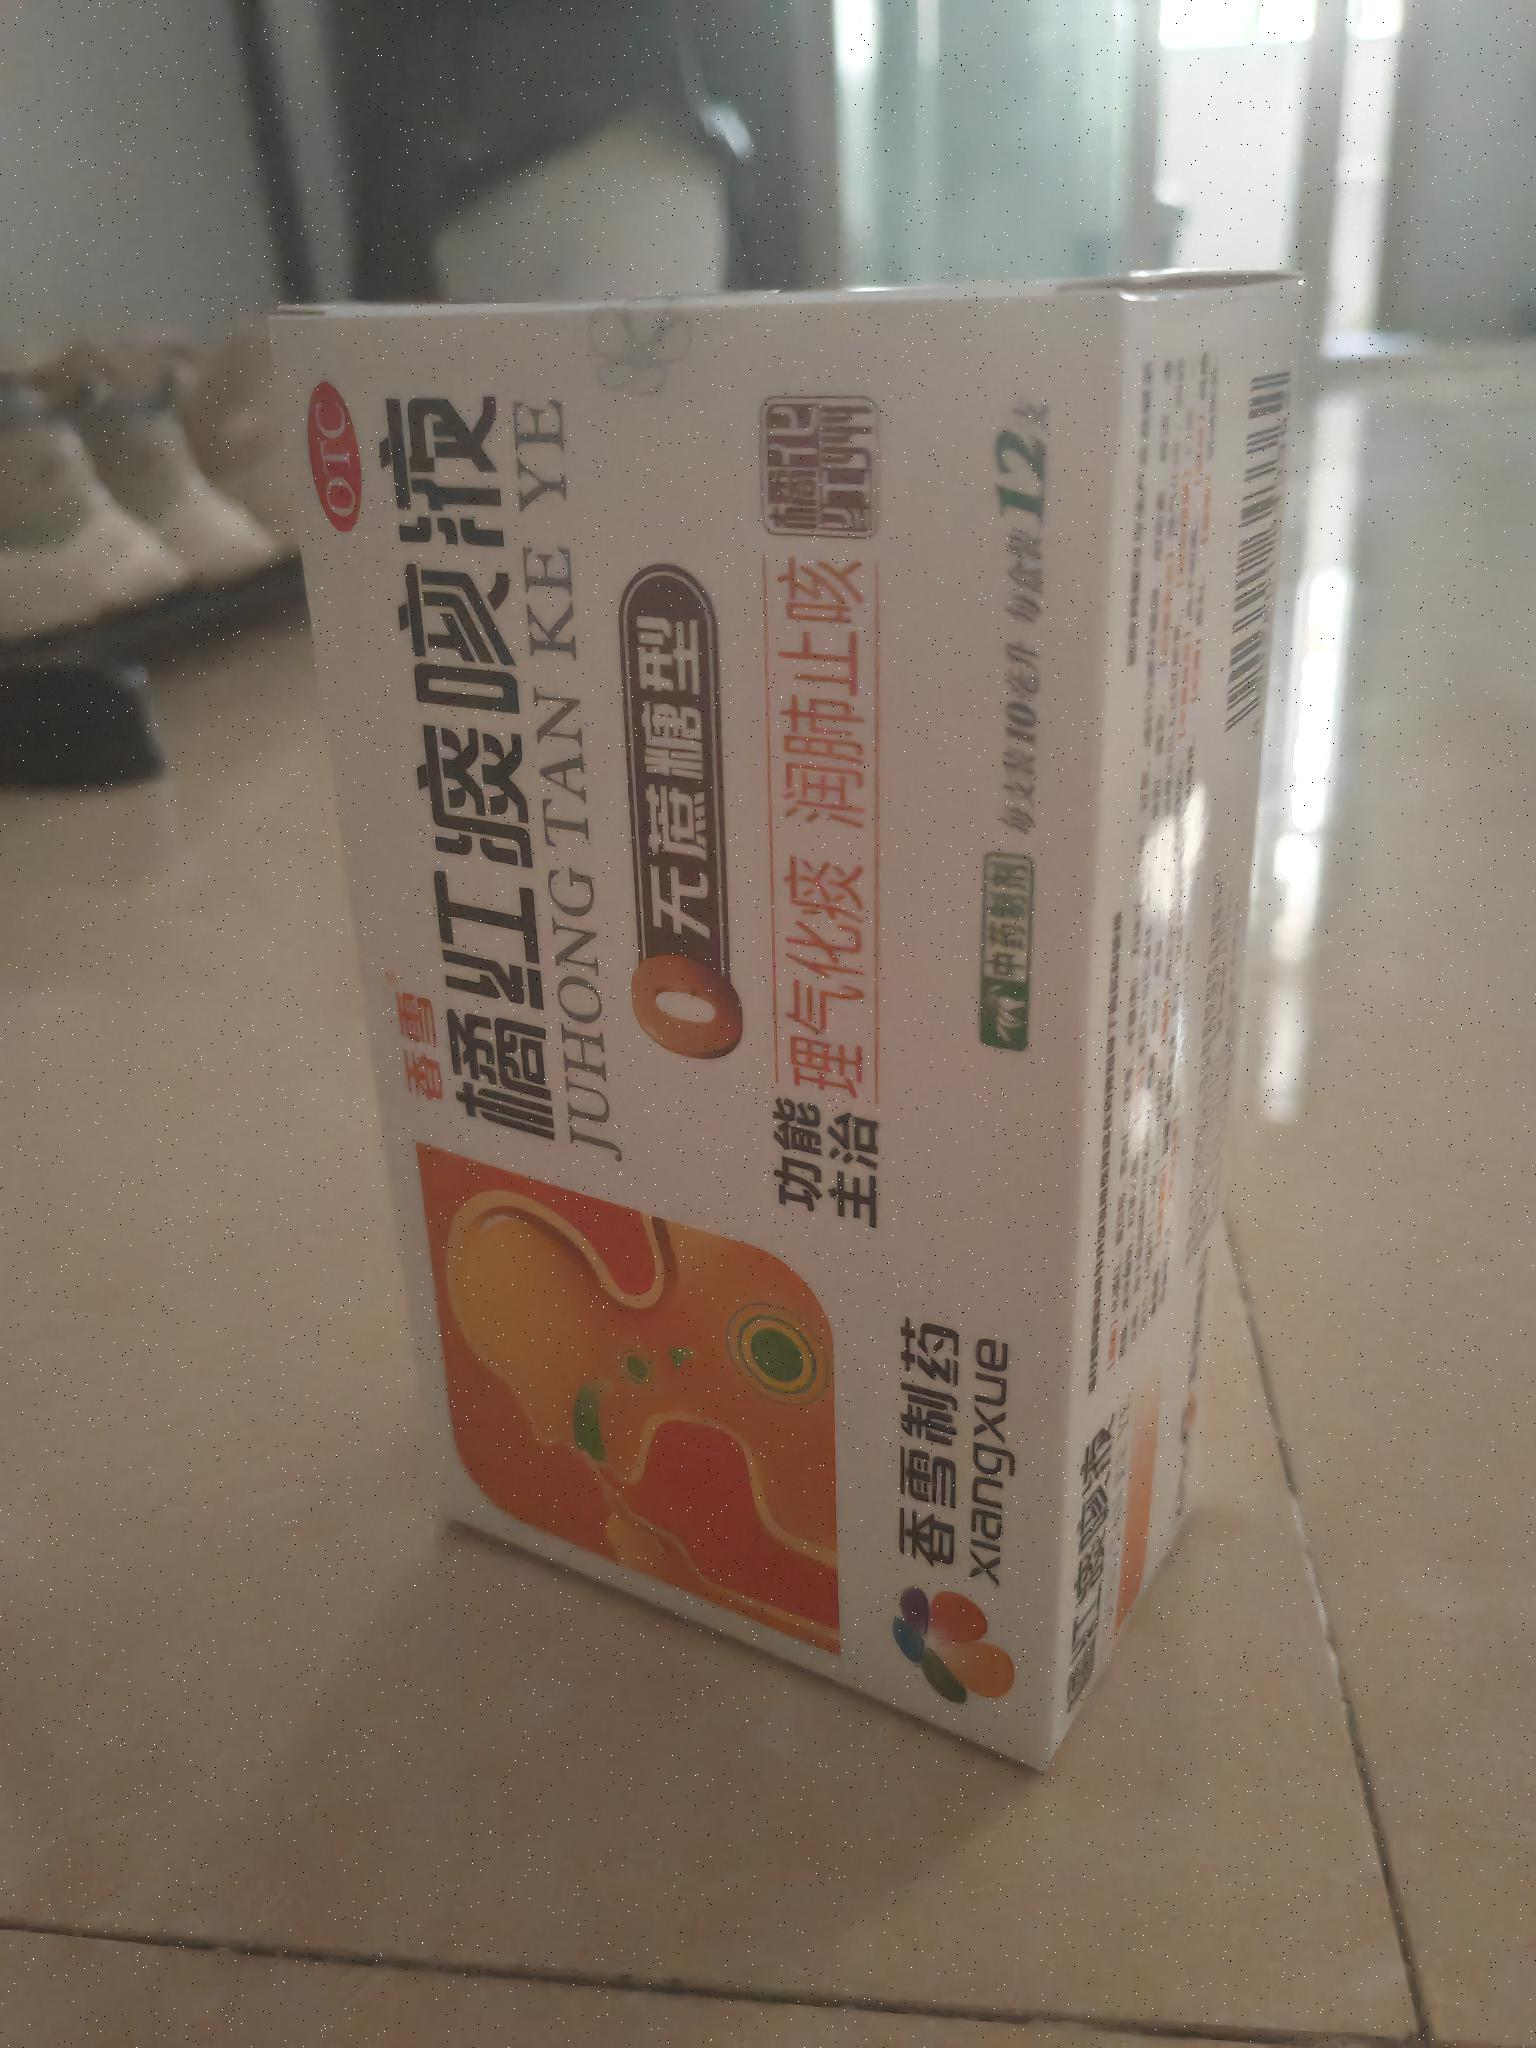Medicine1: (257, 250, 1326, 1809)
